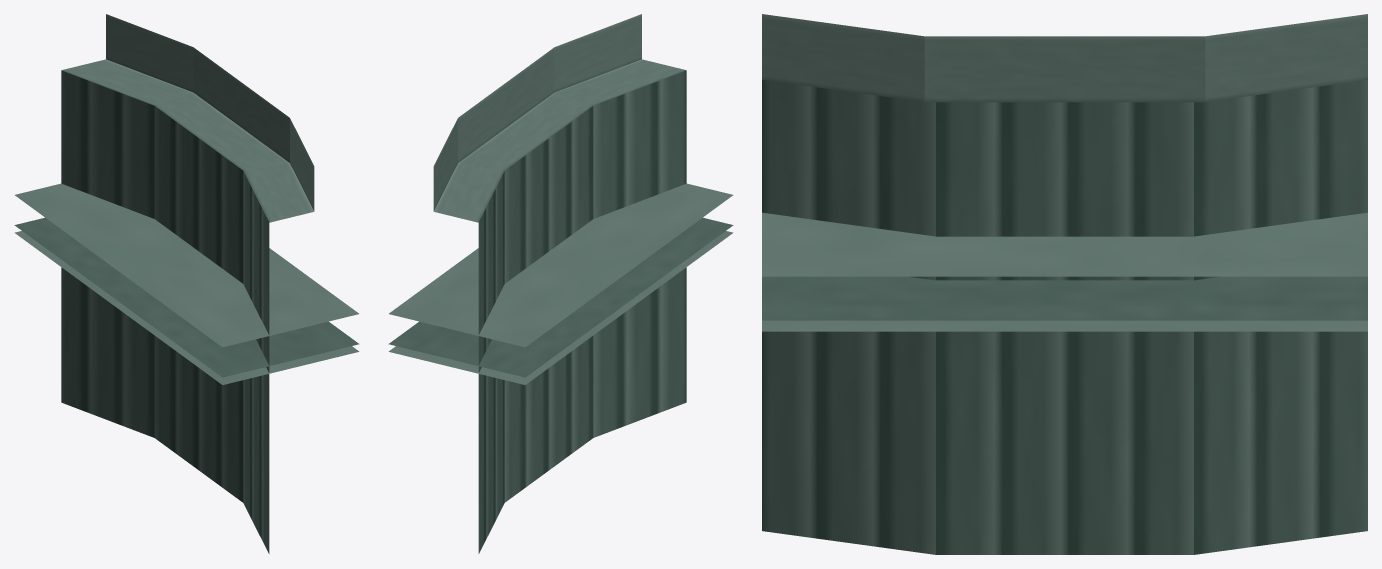
File: cell_213.obj
The picture shows the model from 3 angles, left to right: view 1: azimuth 30°, elevation 25°; view 2: azimuth 150°, elevation 25°; view 3: azimuth 270°, elevation 25°; orthographic projection. The views are drawn at different scales.
Bounding box in the file's own units: 0.38 × 1 × 1.
